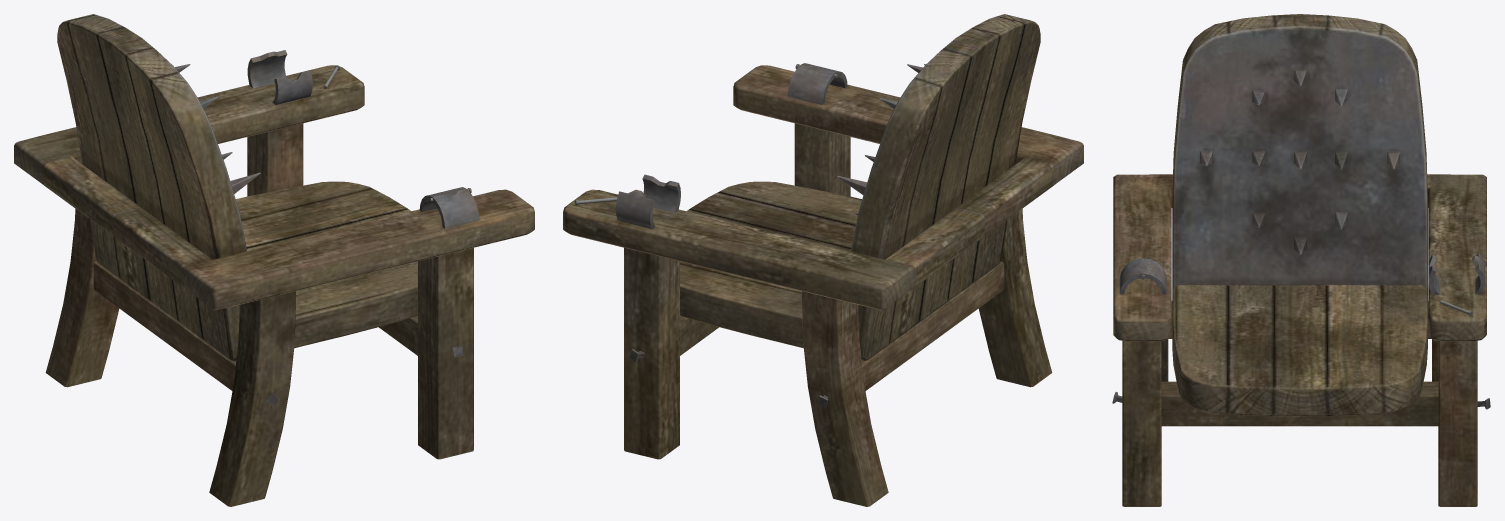
The model's file is SM_Torture_Chair.glb.
3 renders of one model, left to right at view 1: azimuth 30°, elevation 25°; view 2: azimuth 150°, elevation 25°; view 3: azimuth 270°, elevation 25°, orthographic. The views are drawn at different scales.
Visible parts, largest first — view 1: SM_Torture_Chair; view 2: SM_Torture_Chair; view 3: SM_Torture_Chair.
Part boxes in pixels (box(x1,y1,x2,y2)): SM_Torture_Chair: box(14, 14, 534, 506); SM_Torture_Chair: box(563, 14, 1083, 506); SM_Torture_Chair: box(1112, 14, 1490, 506).
Bounding box in the file's own units: 0.9351 × 1.1 × 1.01.
Materials: 1 (1 with a texture image).
